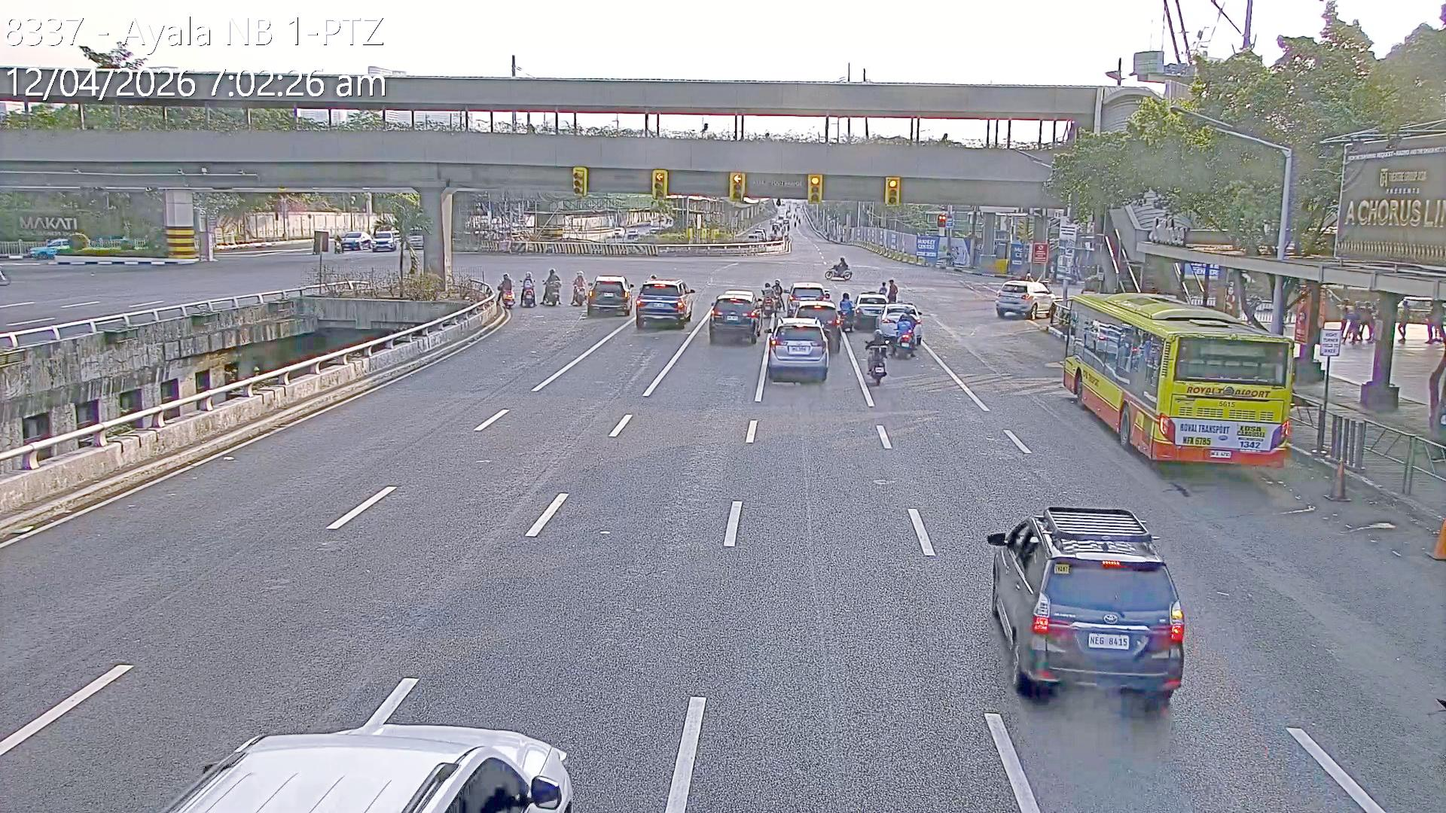Car: (141, 718, 578, 812), (983, 506, 1178, 696), (764, 318, 832, 383), (633, 276, 694, 330), (786, 296, 842, 352), (706, 290, 761, 344), (874, 301, 923, 354), (995, 279, 1054, 320), (585, 273, 633, 319), (785, 282, 831, 319), (853, 291, 892, 330), (338, 230, 368, 251), (370, 229, 398, 251)
Motor: (859, 327, 897, 391), (542, 268, 565, 308), (517, 271, 538, 307), (570, 269, 589, 308), (767, 285, 786, 316), (828, 261, 853, 282), (497, 283, 512, 308)
Not Accident: (707, 278, 927, 386), (494, 260, 694, 340), (835, 287, 926, 383), (769, 283, 844, 385), (855, 291, 923, 353), (758, 276, 786, 320)
